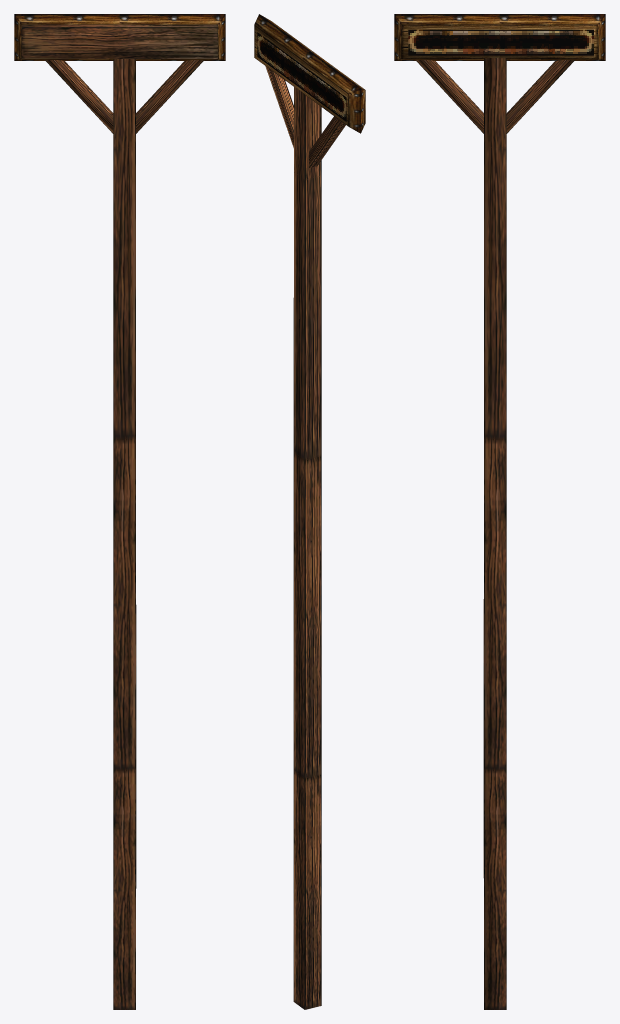
Rendered from INST_WH2_PLAT_POST.fbx.
3 renders of one model, left to right at view 1: azimuth 90°, elevation 25°; view 2: azimuth 210°, elevation 25°; view 3: azimuth 270°, elevation 25°, orthographic. The views are drawn at different scales.
Parts seen in each view (by area): view 1: INST_WH2_PLAT_POST; view 2: INST_WH2_PLAT_POST; view 3: INST_WH2_PLAT_POST.
Part boxes in pixels (<box>): INST_WH2_PLAT_POST: <box>14,14,225,1009</box>; INST_WH2_PLAT_POST: <box>254,14,365,1009</box>; INST_WH2_PLAT_POST: <box>394,14,605,1009</box>.
Bounding box in the file's own units: 2116 × 113738 × 21945.
Materials: 5 (5 with a texture image).
